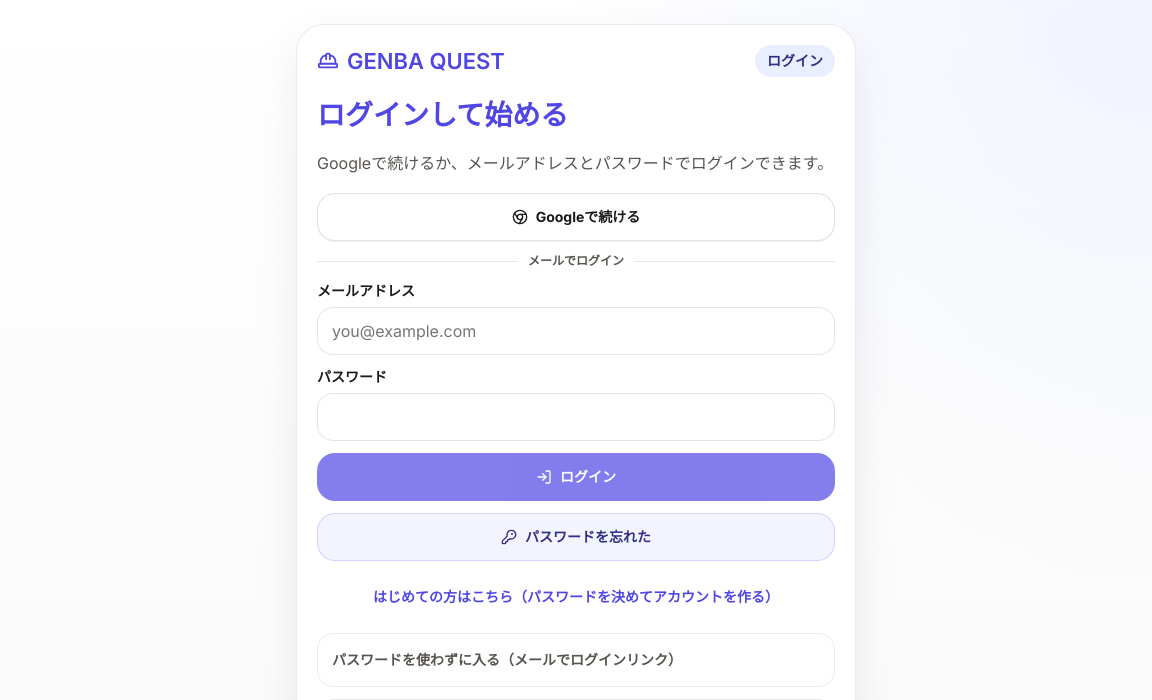
App entry gate › keeps the password reset action tappable before an email is entered
Click the button "パスワードを忘れた" at (576, 537), box [317,513,835,561]
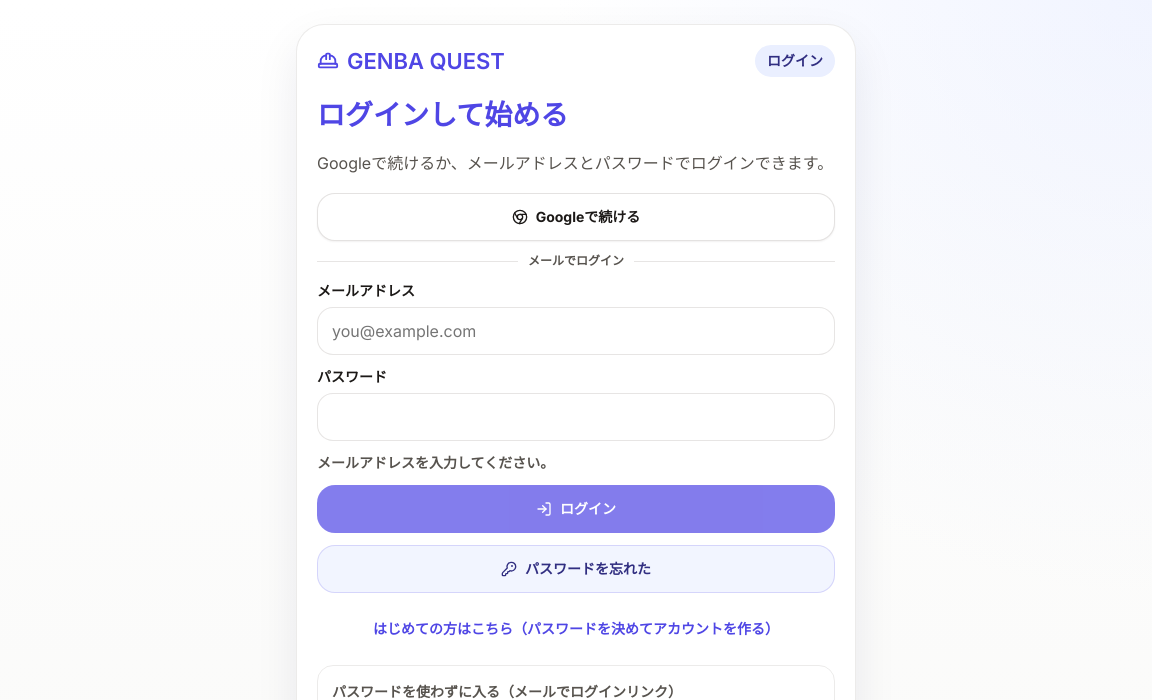
Result: the text "メールアドレスを入力してください。" is shown at [317,454,554,471]
